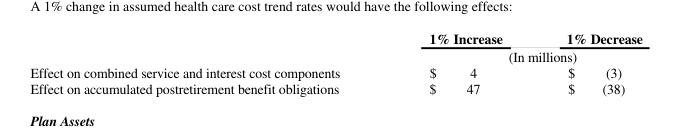table: (29, 28, 641, 96)
table column: (29, 28, 384, 96), (384, 28, 533, 96), (533, 28, 641, 96)
table column header: (29, 28, 641, 63)
table row: (29, 28, 641, 47), (29, 79, 641, 96), (29, 47, 641, 63), (29, 63, 641, 79)
table spanning cell: (384, 47, 641, 63)
